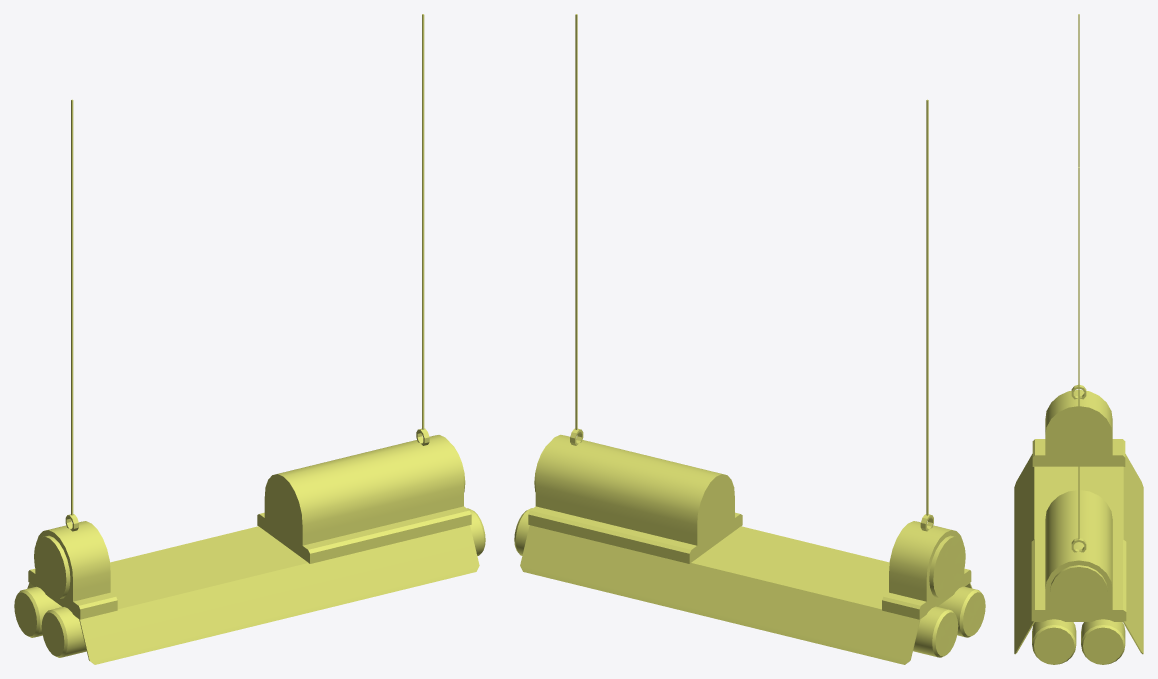
The model's file is Generator_Lamp.fbx.
The picture shows the model from 3 angles, left to right: view 1: azimuth 30°, elevation 25°; view 2: azimuth 150°, elevation 25°; view 3: azimuth 270°, elevation 25°; orthographic projection. The views are drawn at different scales.
Visible parts, largest first — view 1: Generator_Lamp; view 2: Generator_Lamp; view 3: Generator_Lamp.
Boxes of the visible parts, bbox=[...] form: Generator_Lamp: bbox=[14, 14, 485, 664]; Generator_Lamp: bbox=[514, 14, 985, 664]; Generator_Lamp: bbox=[1014, 14, 1143, 664].
Bounding box in the file's own units: 88.51 × 108 × 26.32.
